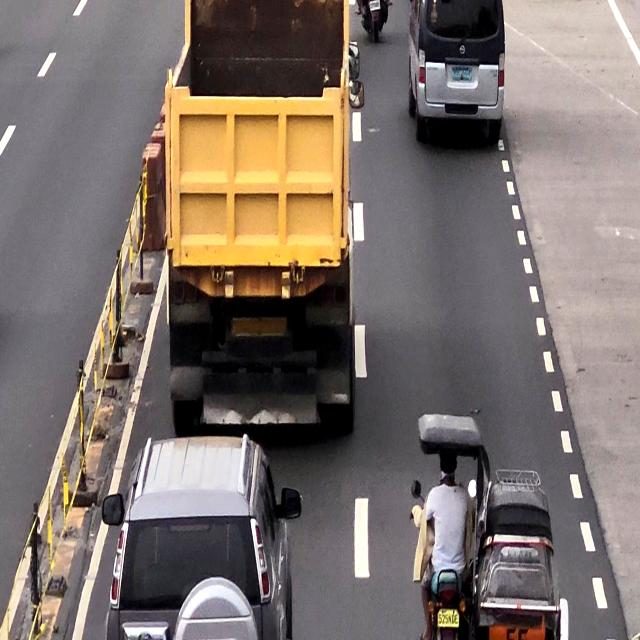Car: (109, 438, 284, 640), (407, 0, 504, 131)
License-Plate: (434, 606, 459, 629), (451, 66, 474, 84)
Tricycle: (416, 415, 566, 640)
Truck: (170, 0, 350, 430)
